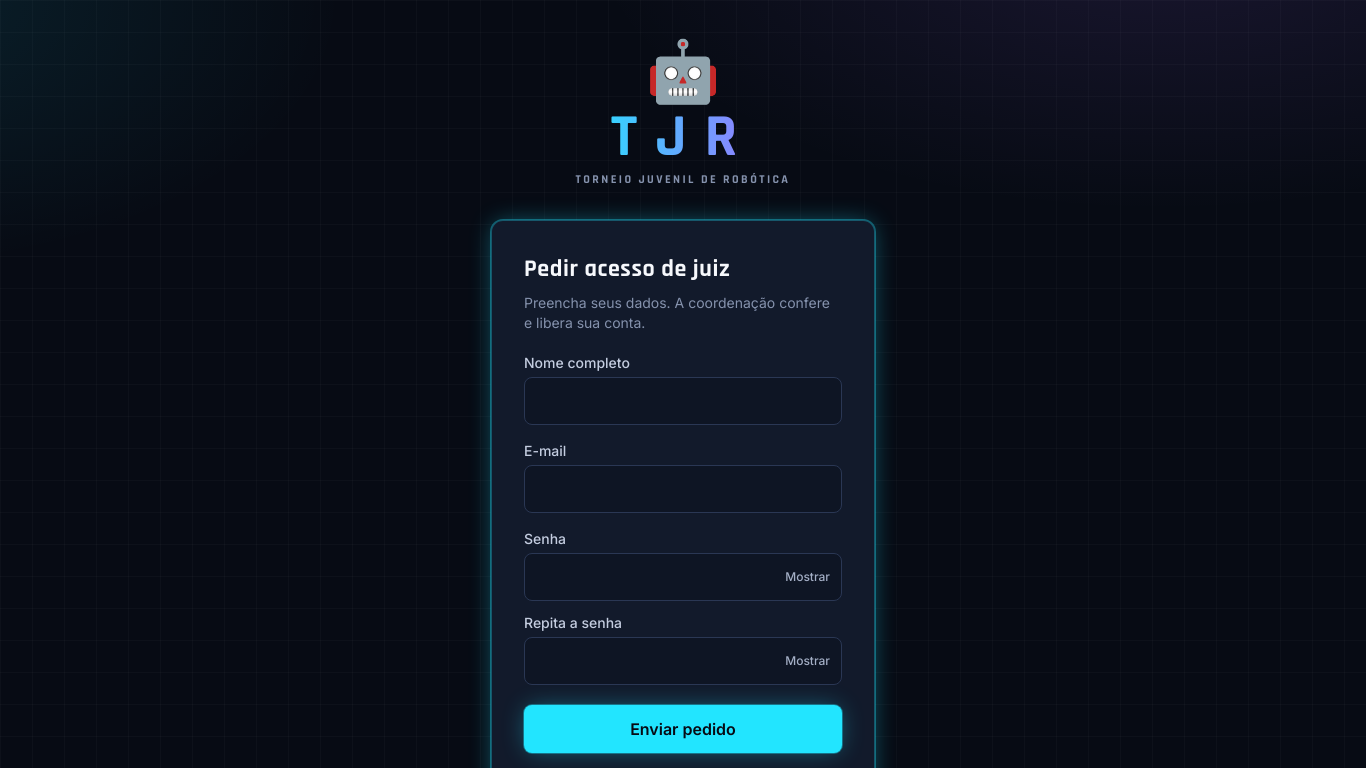
Test: PedirAcessoPage › depois de enviar, diz pra avisar a coordenacao e some com o formulario
Type "Juiz Novo" into the field labelled "Nome completo" at (683, 401), box [524,377,842,425]
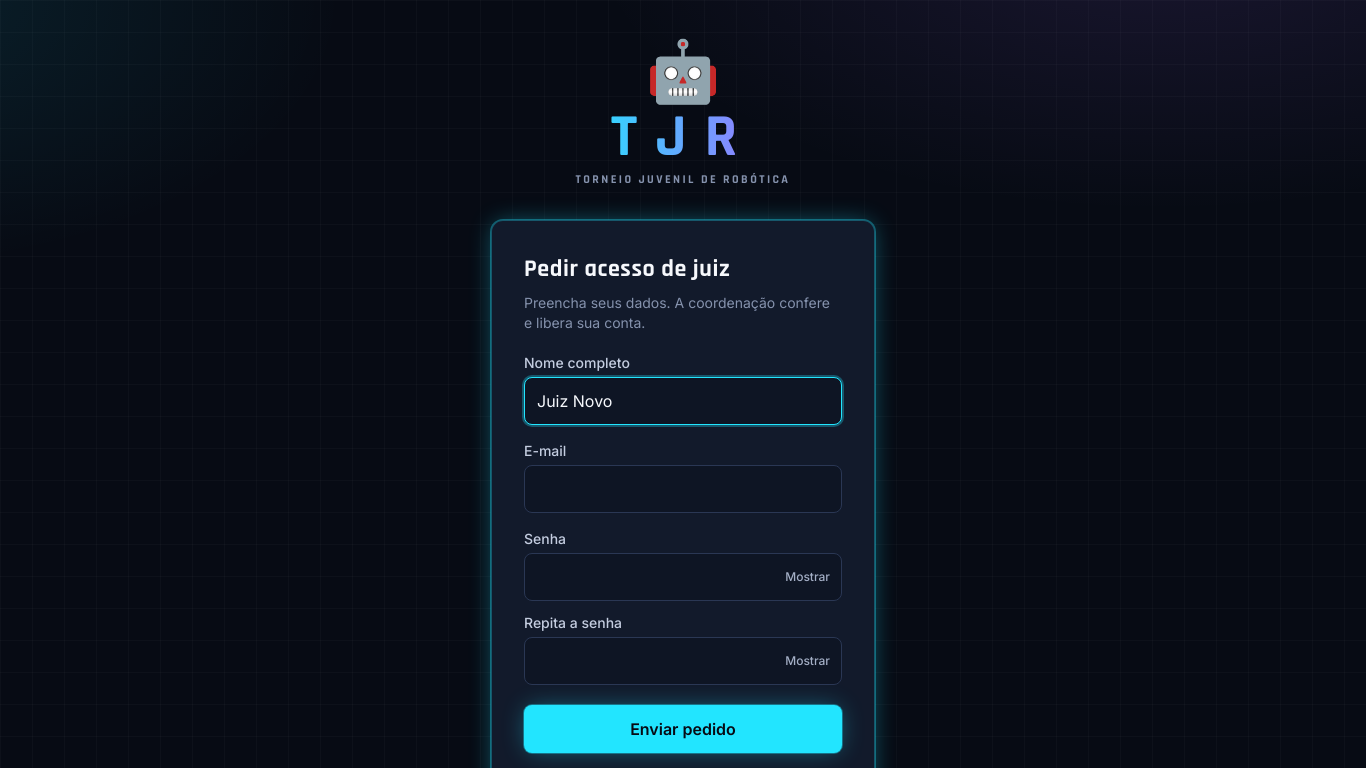
Type "juiz.novo@tjr.app" into the field labelled "E-mail" at (683, 489), box [524,465,842,513]
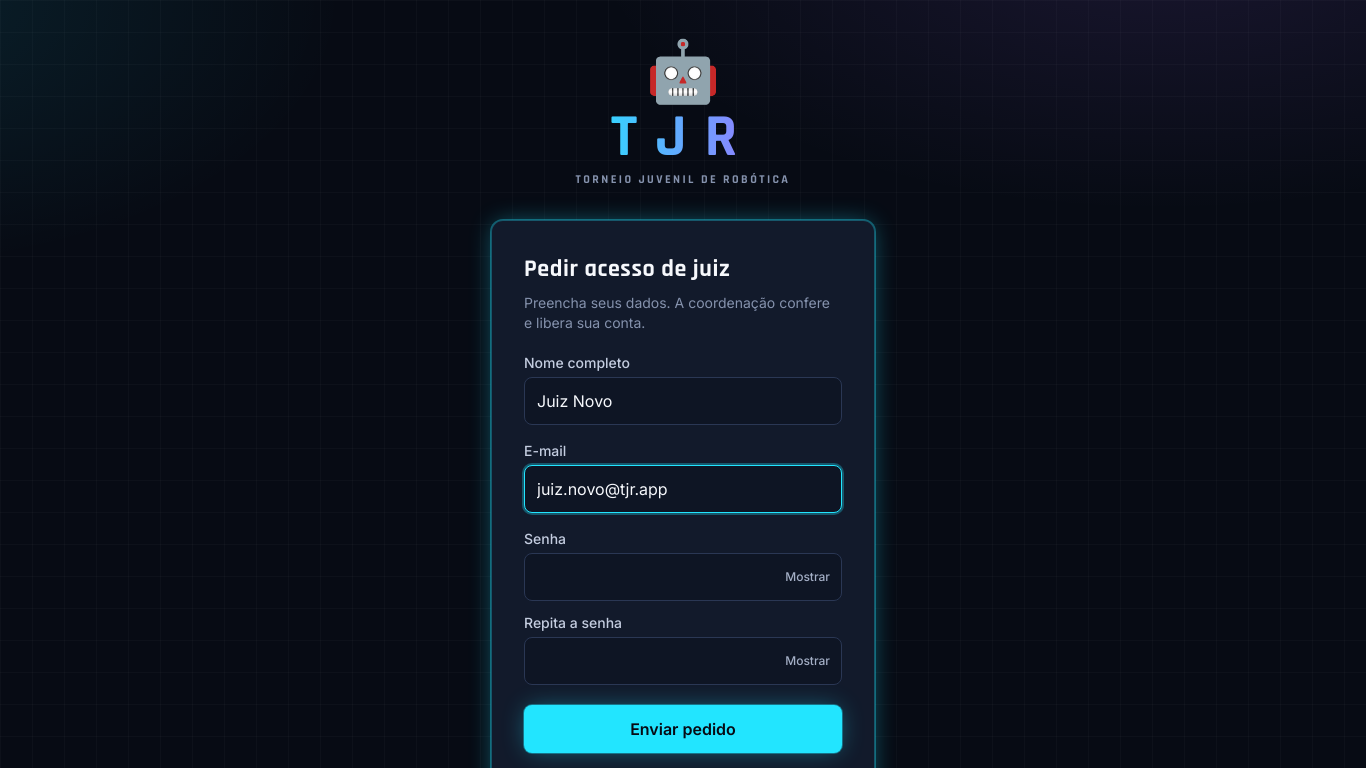
Type "segredo1" into the password field labelled "Senha" at (683, 577), box [524,553,842,601]
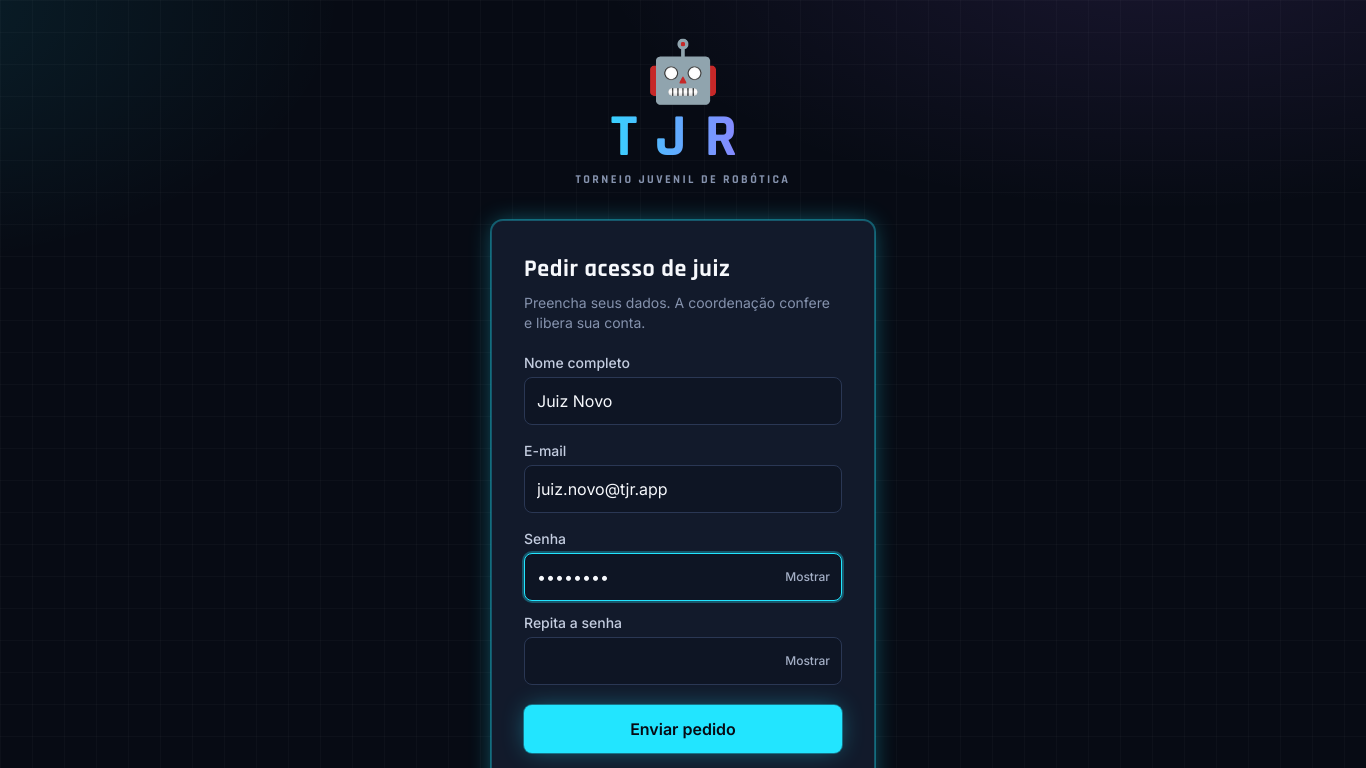
Type "segredo1" into the password field labelled "Repita a senha" at (683, 661), box [524,637,842,685]
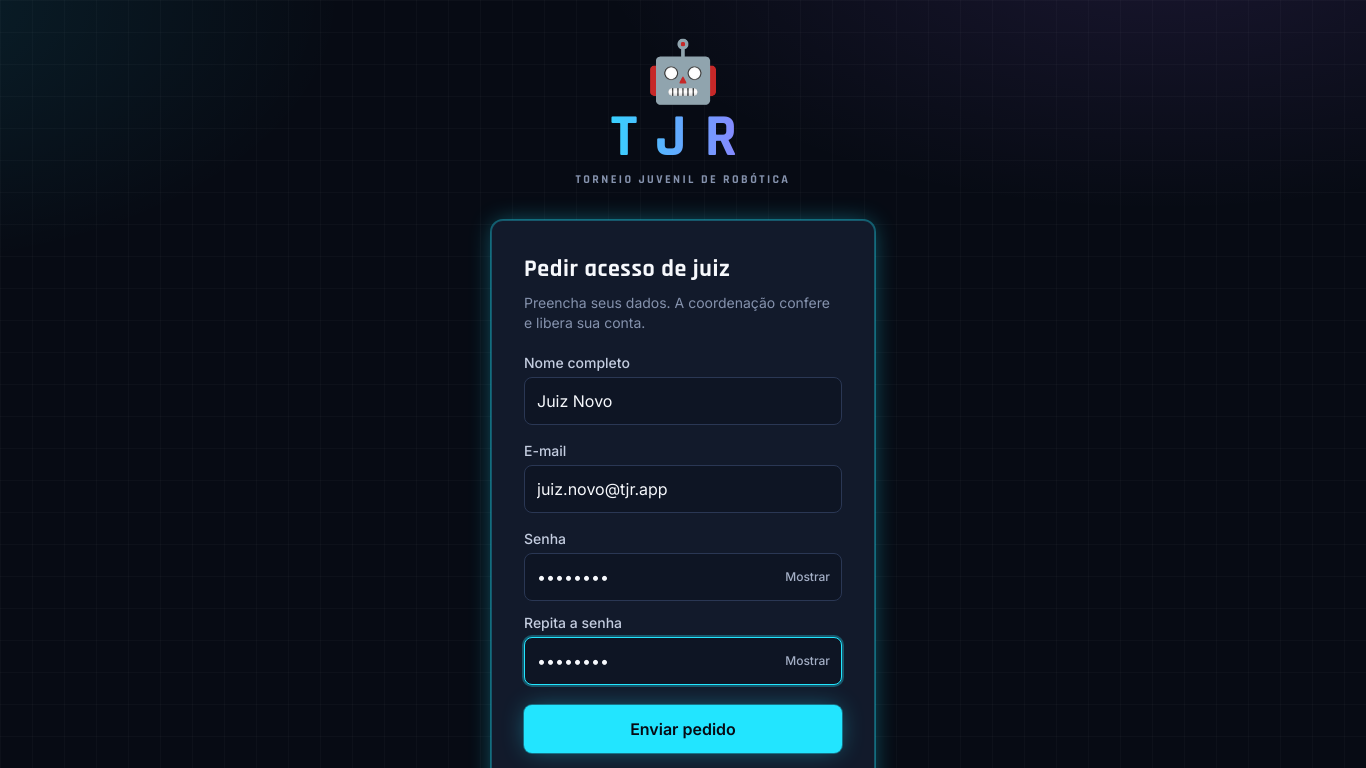
Click the button "Enviar pedido" at (683, 729), box [524,705,842,753]
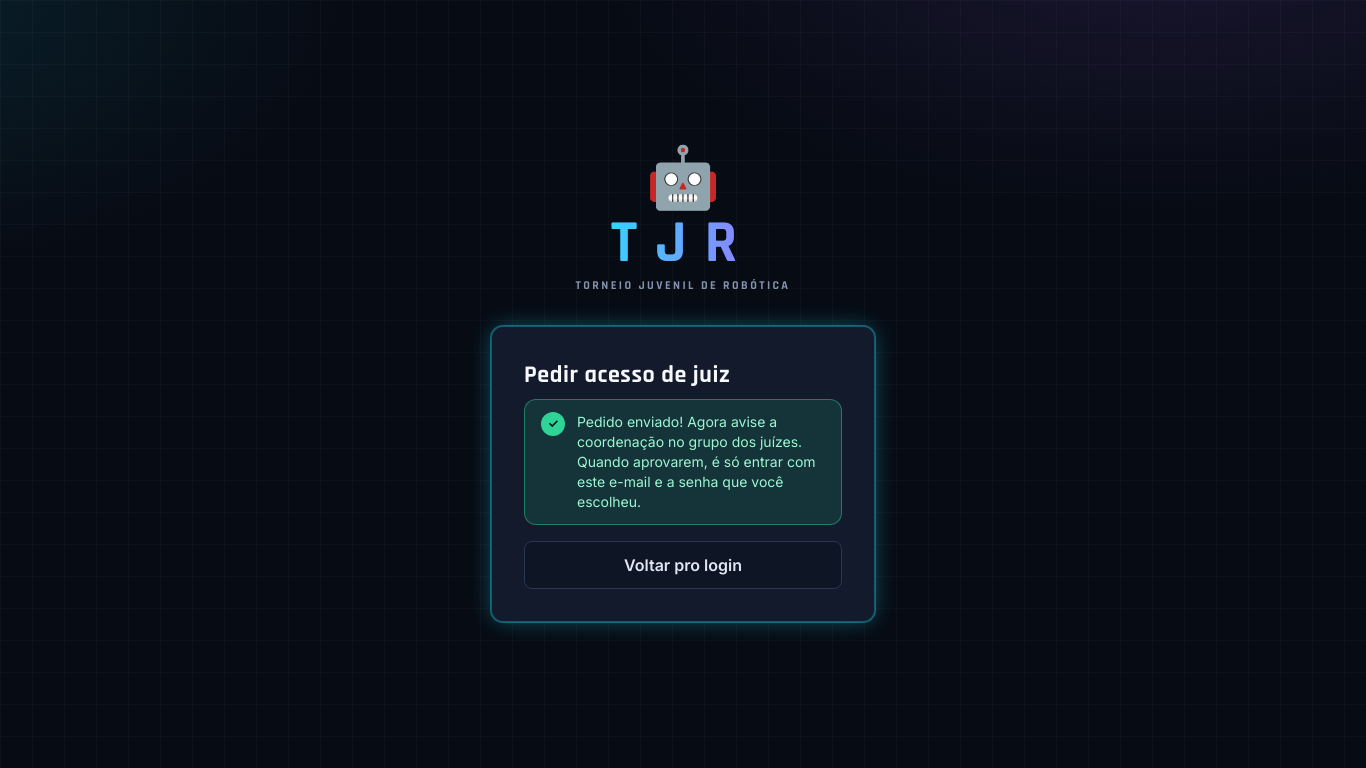
Result: the text "avise a coordenação" is shown at [577,413,816,510]
Result: the button "Enviar pedido" is gone
